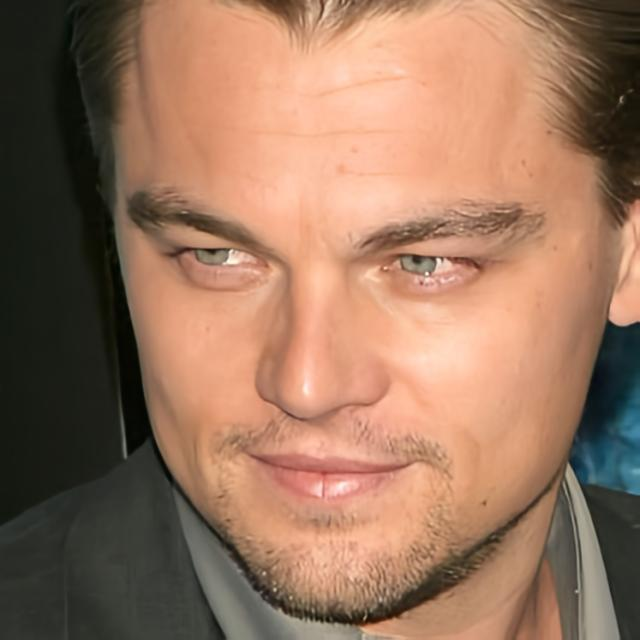content: (112, 0, 612, 628)
